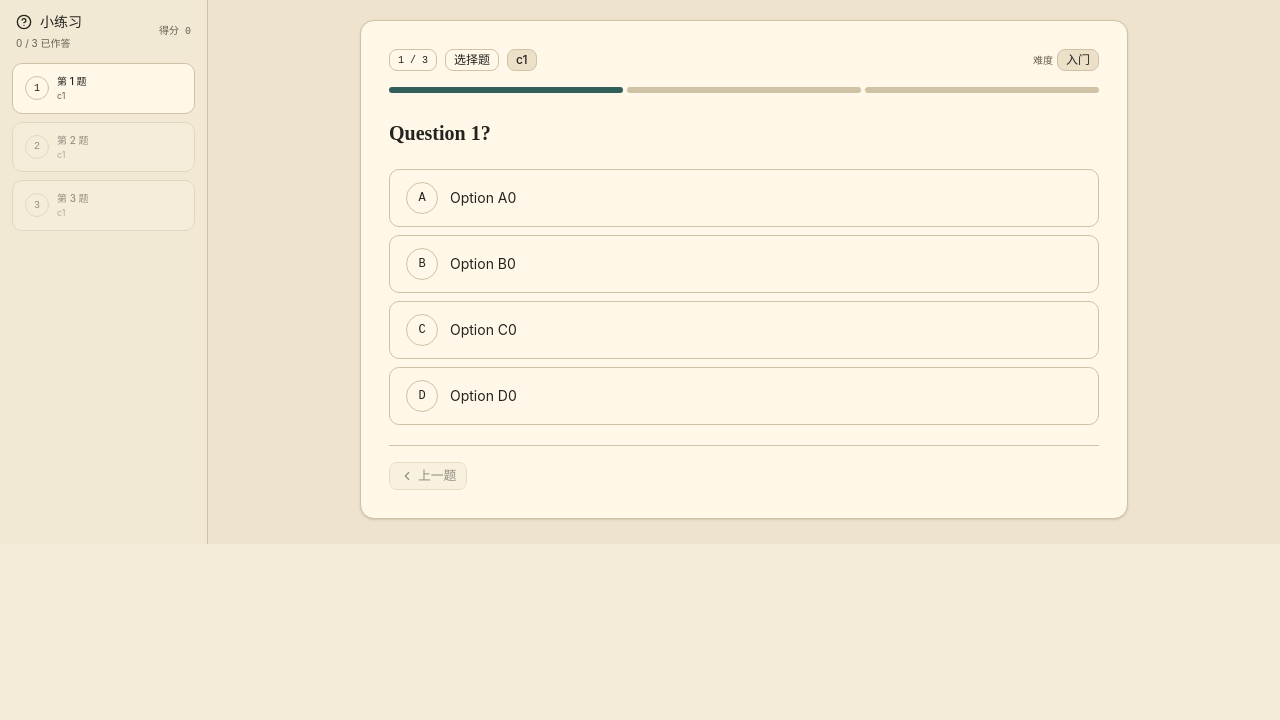
QuizPanel › navigates to next question
The image size is (1280, 720).
# Answer current question by clicking the correct option (first option in makeMCQuestions)
Click the button "A Option A0".
click(422, 198)  # box [389,169,1099,227]
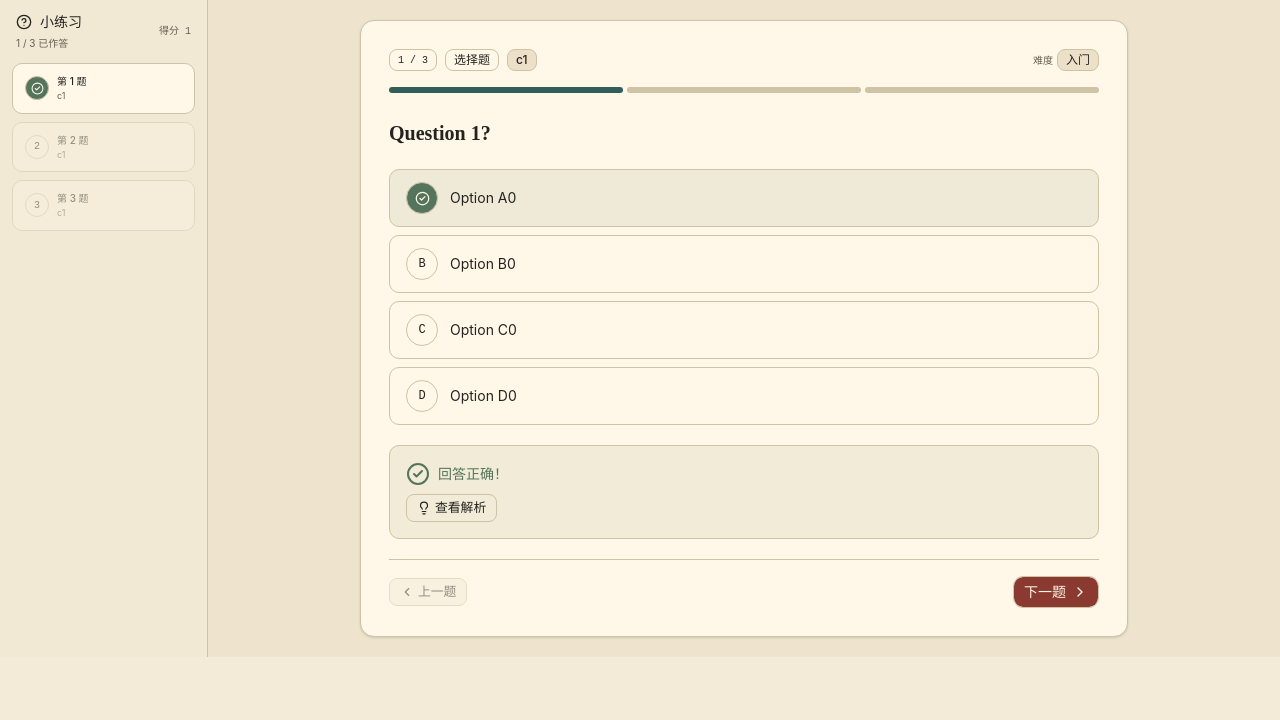
# Find and click next button
Click the button "下一题".
click(1056, 592)  # box [1013,576,1099,608]
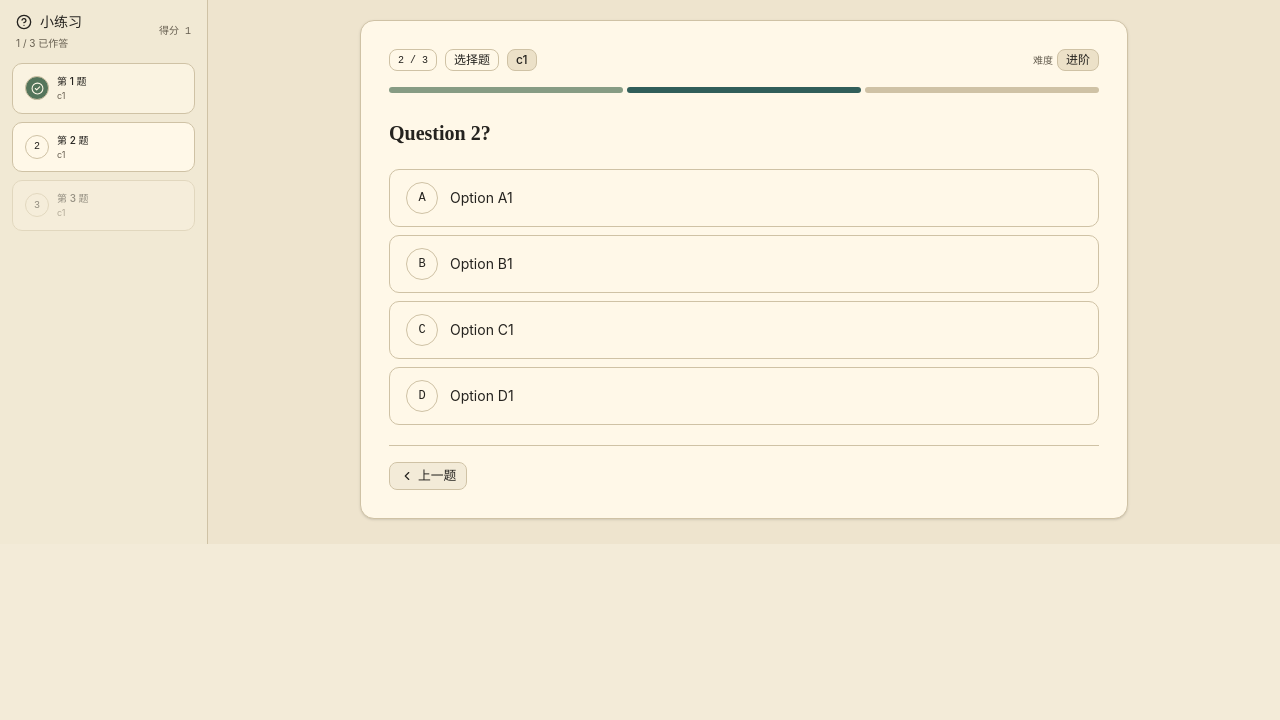
expect the heading "Question 2?" is shown: met, box [389,122,491,144]
expect the text "2 / 3" is shown: met, box [389,49,437,71]
